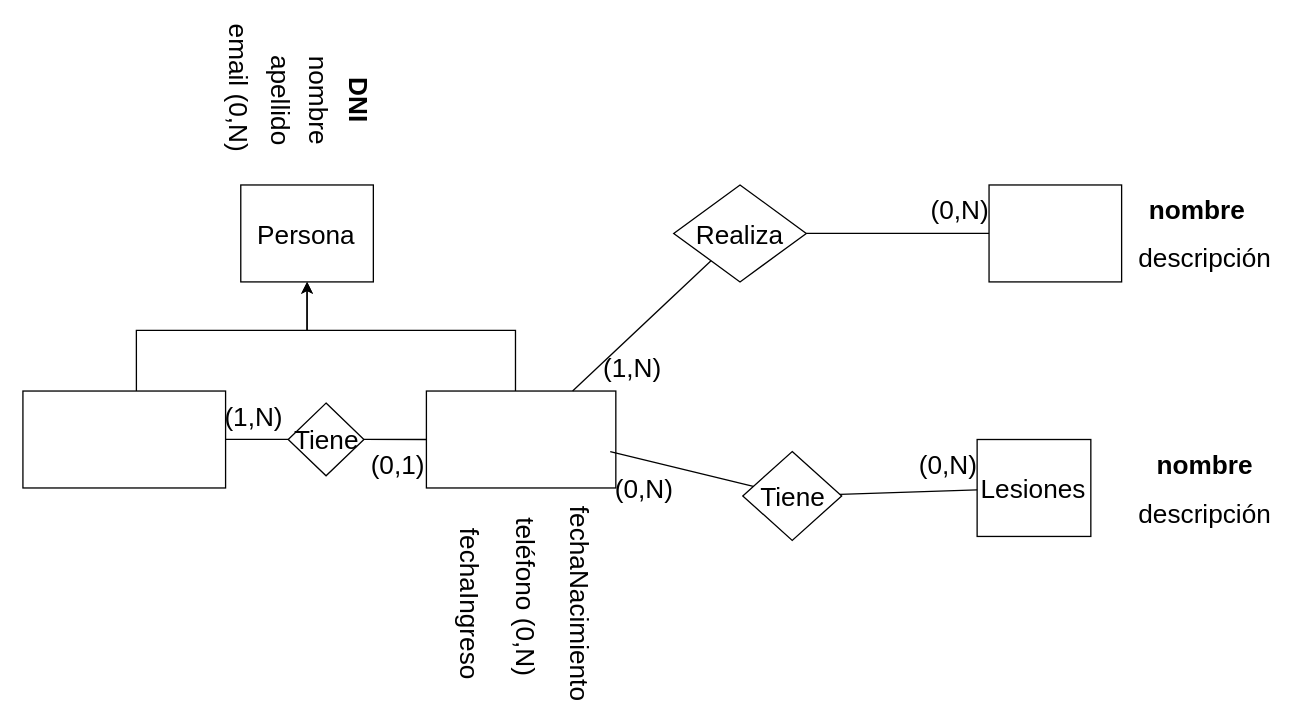
This 1293x724 diagram has some shape labels left out. Each missing label, with the centre of its shape:
"Deportes" goes at (x=1055, y=233).
"Deportistas" goes at (x=520, y=439).
"Representantes" goes at (x=124, y=439).
